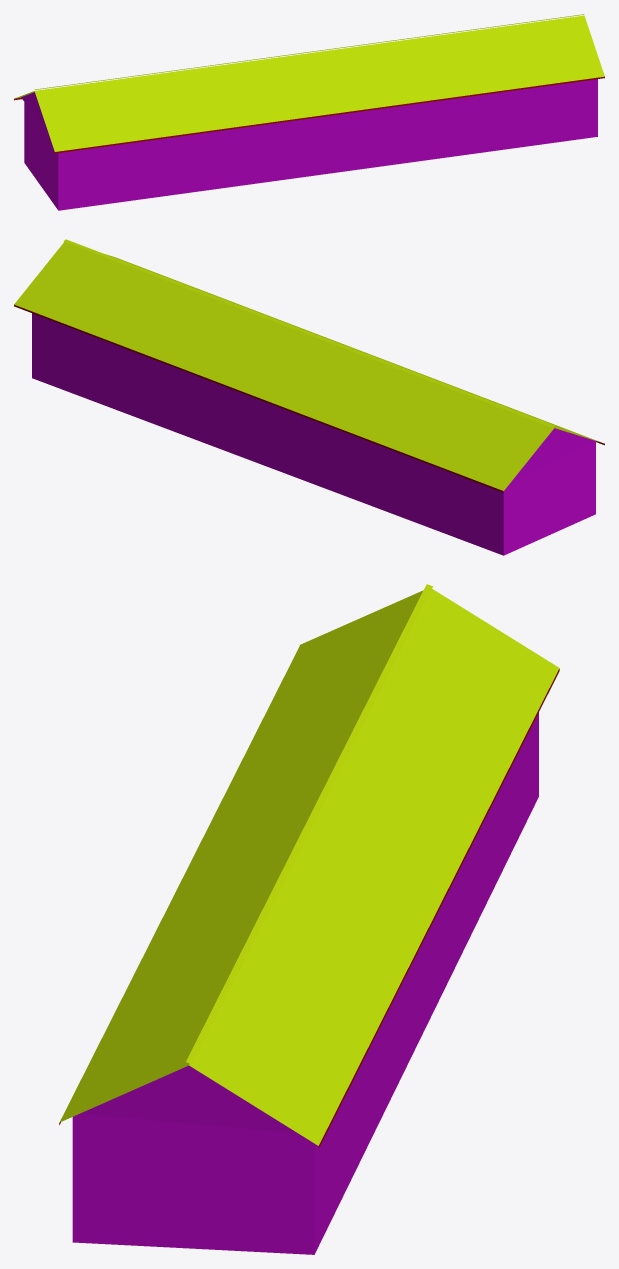
3 views of the same model, one above another, from view 1: azimuth 30°, elevation 25°; view 2: azimuth 150°, elevation 25°; view 3: azimuth 270°, elevation 25° (orthographic). The views are drawn at different scales.
Parts seen in each view (by area): view 1: sc_5; view 2: sc_5; view 3: sc_5.
Part boxes in pixels (left/top/right/bottom): sc_5: left=14, top=14, right=604, bottom=210; sc_5: left=14, top=239, right=604, bottom=555; sc_5: left=59, top=584, right=559, bottom=1254.
Bounding box in the file's own units: 42.56 × 7.73 × 17.94.
